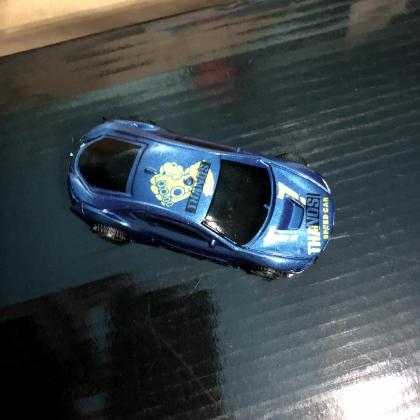Car: (66, 114, 338, 283)
